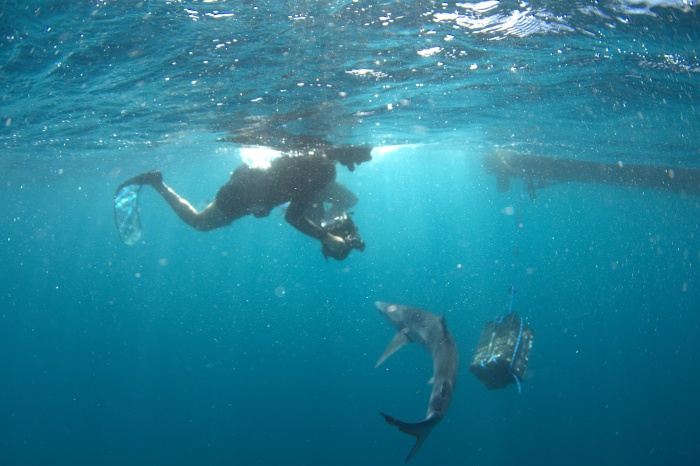Azul: (345, 285, 474, 458)
